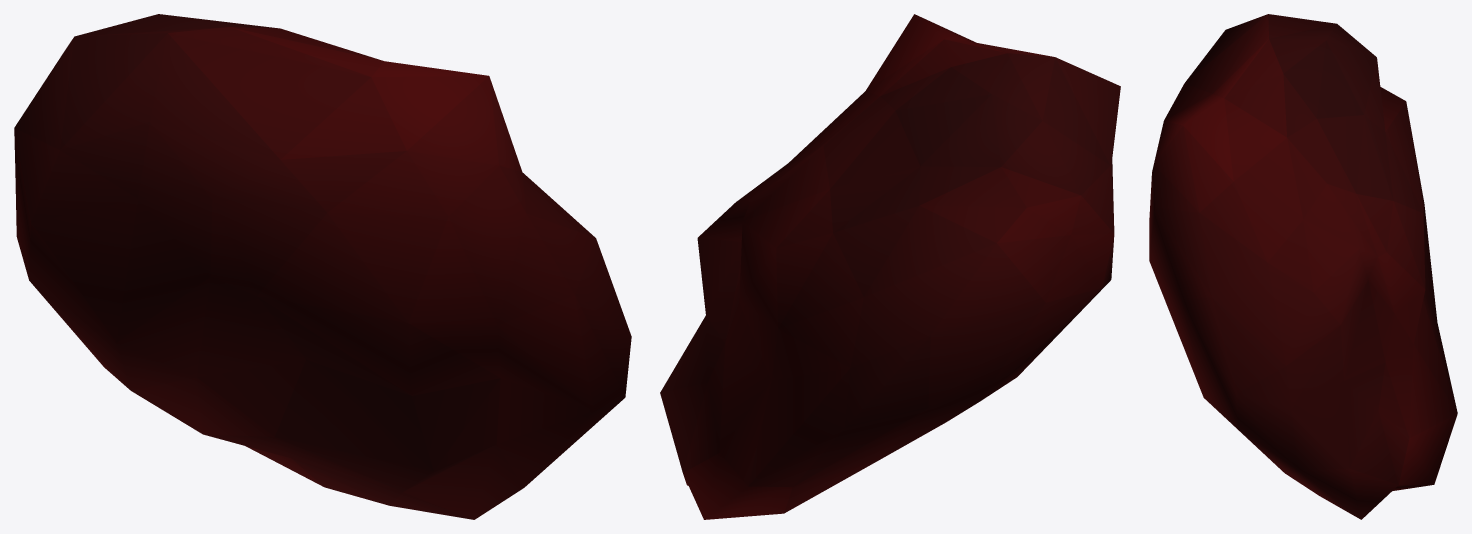
File: geology-rocks-asteroidsmall_v7.fbx
The picture shows the model from 3 angles, left to right: view 1: azimuth 30°, elevation 25°; view 2: azimuth 150°, elevation 25°; view 3: azimuth 270°, elevation 25°; orthographic projection. The views are drawn at different scales.
Parts seen in each view (by area): view 1: AsteroidSmall_v7; view 2: AsteroidSmall_v7; view 3: AsteroidSmall_v7.
Boxes of the visible parts, bbox=[...] form: AsteroidSmall_v7: bbox=[14, 14, 631, 519]; AsteroidSmall_v7: bbox=[660, 14, 1120, 519]; AsteroidSmall_v7: bbox=[1149, 14, 1457, 519].
Size of the model in its own units: 0.4303 by 0.4454 by 0.3272.
